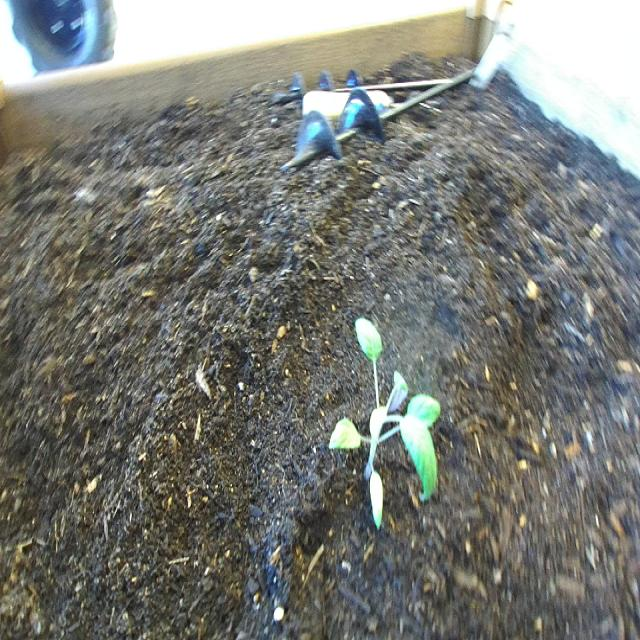Healthy: (327, 308, 443, 536)
